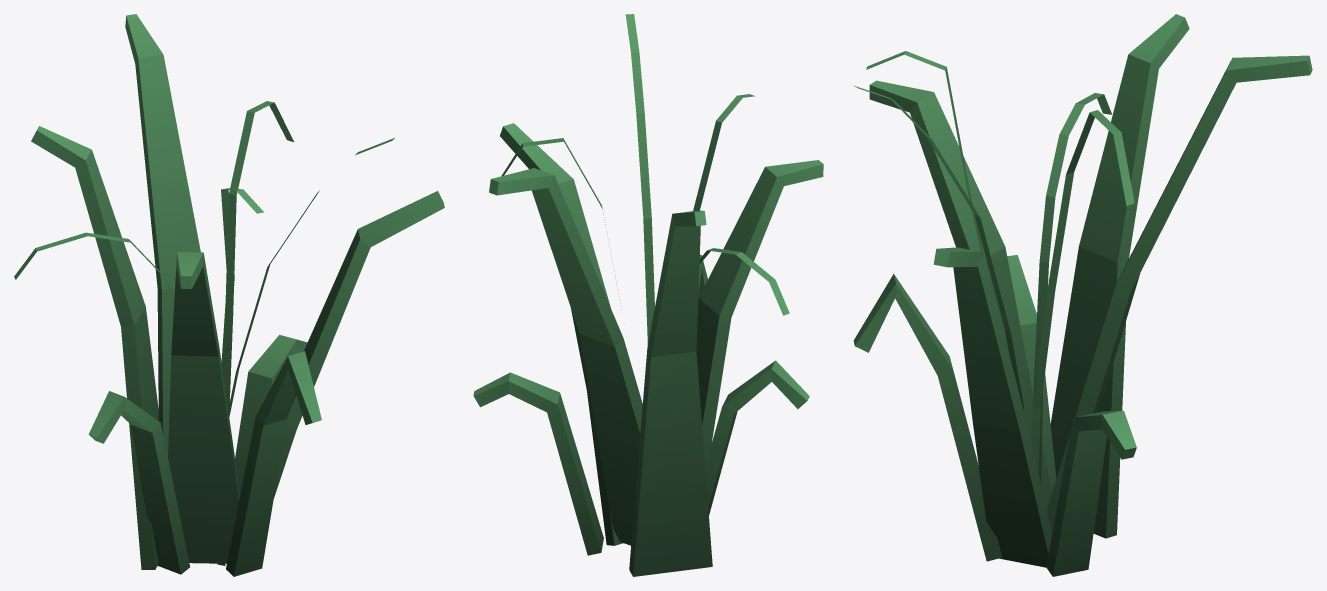
The model's file is DarkGrass2.fbx.
3 views of the same model, side by side, from view 1: azimuth 30°, elevation 25°; view 2: azimuth 150°, elevation 25°; view 3: azimuth 270°, elevation 25° (orthographic). The views are drawn at different scales.
Visible parts, largest first — view 1: DarkGrass2; view 2: DarkGrass2; view 3: DarkGrass2.
Boxes of the visible parts, x1,y1,x2,y2 form: DarkGrass2: [14, 14, 444, 576]; DarkGrass2: [473, 14, 823, 576]; DarkGrass2: [853, 14, 1312, 576].
Bounding box in the file's own units: 146 × 179 × 142.
